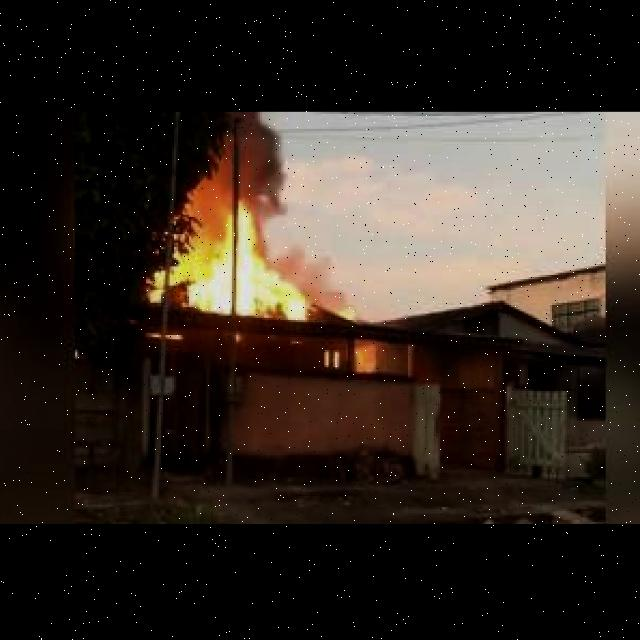fire: (157, 193, 309, 324)
